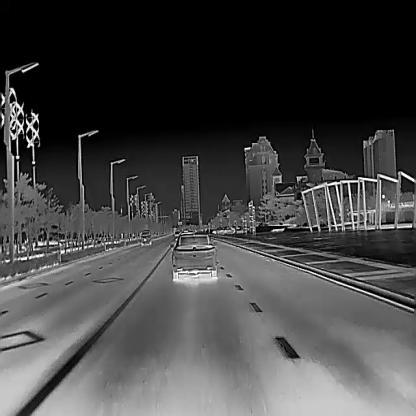car: (170, 232, 219, 281), (140, 228, 151, 246), (175, 230, 180, 236)
